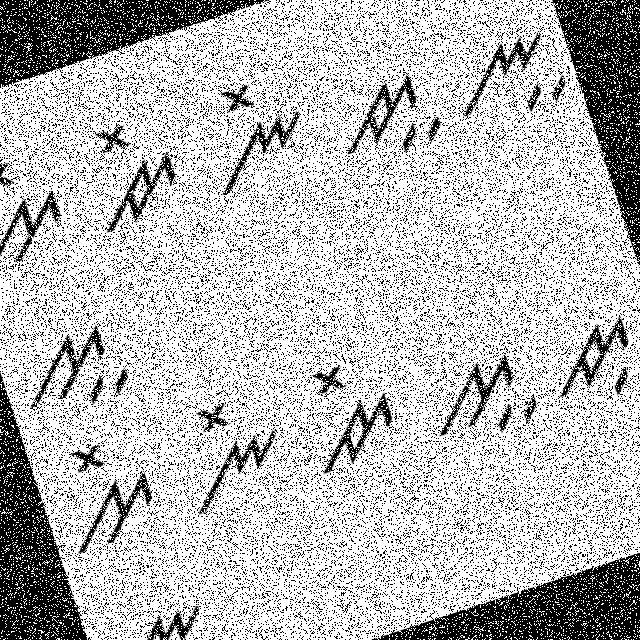jah: (316, 56, 450, 178), (528, 295, 639, 418)
jo: (64, 107, 197, 246), (282, 342, 408, 484)
nyah: (438, 16, 579, 142), (92, 590, 236, 639)
nyo: (157, 382, 299, 522), (186, 56, 322, 202)
sah: (4, 304, 140, 428), (416, 337, 550, 458)
so: (44, 423, 170, 562), (0, 142, 79, 278)
